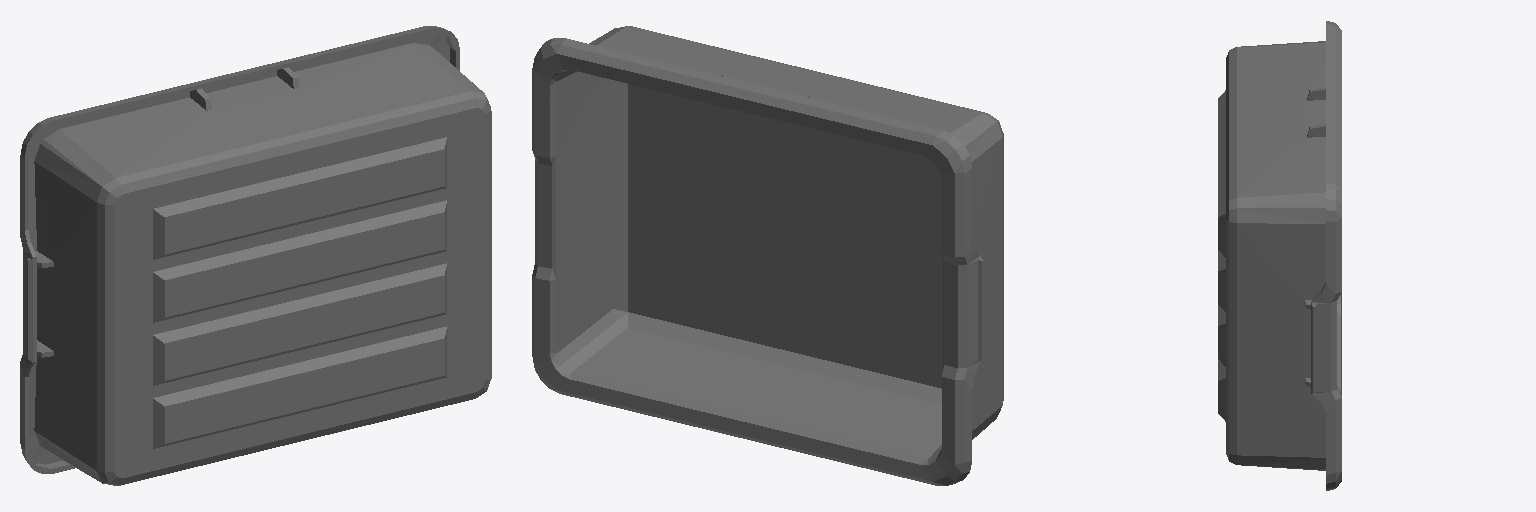
robot.urdf — bus_tub_01_decomp:
<robot xmlns:drake="drake.mit.edu" name="bus_tub_01_decomp">
  <link name="bus_tub_01_decomp_body_link">
    <inertial>
      <origin xyz="4.88E-18 4.98E-02 5.06E-08" rpy="0 0 0"/>
      <mass value="1.00E+00"/>
      <inertia ixx="1.5714E-02" ixy="2.5637E-18" ixz="2.9288E-18" iyy="3.5565E-02" iyz="1.6490E-09" izz="2.3676E-02"/>
    </inertial>
    <visual>
      <origin xyz="0 0 0" rpy="0 0 0"/>
      <geometry>
        <mesh filename="bus_tub_01_decomp_visual.obj" scale="1.0000E+00 1.0000E+00 1.0000E+00"/>
      </geometry>
      <material name="">
        <color rgba="5.00E-01 5.00E-01 5.00E-01 1.00E+00"/>
      </material>
    </visual>
    <collision>
      <origin xyz="0 0 0" rpy="0 0 0"/>
      <geometry>
        <mesh filename="bus_tub_01_decomp_convex_piece_0.obj" scale="1.0000E+00 1.0000E+00 1.0000E+00">
          <drake:declare_convex/>
        </mesh>
      </geometry>
    </collision>
    <collision>
      <origin xyz="0 0 0" rpy="0 0 0"/>
      <geometry>
        <mesh filename="bus_tub_01_decomp_convex_piece_1.obj" scale="1.0000E+00 1.0000E+00 1.0000E+00">
          <drake:declare_convex/>
        </mesh>
      </geometry>
    </collision>
    <collision>
      <origin xyz="0 0 0" rpy="0 0 0"/>
      <geometry>
        <mesh filename="bus_tub_01_decomp_convex_piece_2.obj" scale="1.0000E+00 1.0000E+00 1.0000E+00">
          <drake:declare_convex/>
        </mesh>
      </geometry>
    </collision>
    <collision>
      <origin xyz="0 0 0" rpy="0 0 0"/>
      <geometry>
        <mesh filename="bus_tub_01_decomp_convex_piece_3.obj" scale="1.0000E+00 1.0000E+00 1.0000E+00">
          <drake:declare_convex/>
        </mesh>
      </geometry>
    </collision>
    <collision>
      <origin xyz="0 0 0" rpy="0 0 0"/>
      <geometry>
        <mesh filename="bus_tub_01_decomp_convex_piece_4.obj" scale="1.0000E+00 1.0000E+00 1.0000E+00">
          <drake:declare_convex/>
        </mesh>
      </geometry>
    </collision>
    <collision>
      <origin xyz="0 0 0" rpy="0 0 0"/>
      <geometry>
        <mesh filename="bus_tub_01_decomp_convex_piece_5.obj" scale="1.0000E+00 1.0000E+00 1.0000E+00">
          <drake:declare_convex/>
        </mesh>
      </geometry>
    </collision>
    <collision>
      <origin xyz="0 0 0" rpy="0 0 0"/>
      <geometry>
        <mesh filename="bus_tub_01_decomp_convex_piece_6.obj" scale="1.0000E+00 1.0000E+00 1.0000E+00">
          <drake:declare_convex/>
        </mesh>
      </geometry>
    </collision>
    <collision>
      <origin xyz="0 0 0" rpy="0 0 0"/>
      <geometry>
        <mesh filename="bus_tub_01_decomp_convex_piece_7.obj" scale="1.0000E+00 1.0000E+00 1.0000E+00">
          <drake:declare_convex/>
        </mesh>
      </geometry>
    </collision>
    <collision>
      <origin xyz="0 0 0" rpy="0 0 0"/>
      <geometry>
        <mesh filename="bus_tub_01_decomp_convex_piece_8.obj" scale="1.0000E+00 1.0000E+00 1.0000E+00">
          <drake:declare_convex/>
        </mesh>
      </geometry>
    </collision>
    <collision>
      <origin xyz="0 0 0" rpy="0 0 0"/>
      <geometry>
        <mesh filename="bus_tub_01_decomp_convex_piece_9.obj" scale="1.0000E+00 1.0000E+00 1.0000E+00">
          <drake:declare_convex/>
        </mesh>
      </geometry>
    </collision>
    <collision>
      <origin xyz="0 0 0" rpy="0 0 0"/>
      <geometry>
        <mesh filename="bus_tub_01_decomp_convex_piece_10.obj" scale="1.0000E+00 1.0000E+00 1.0000E+00">
          <drake:declare_convex/>
        </mesh>
      </geometry>
    </collision>
    <collision>
      <origin xyz="0 0 0" rpy="0 0 0"/>
      <geometry>
        <mesh filename="bus_tub_01_decomp_convex_piece_11.obj" scale="1.0000E+00 1.0000E+00 1.0000E+00">
          <drake:declare_convex/>
        </mesh>
      </geometry>
    </collision>
  </link>
</robot>

--- Render facts (derived) ---
3 views of the same robot in one strip: view 1: azimuth 30°, elevation 25°; view 2: azimuth 150°, elevation 25°; view 3: azimuth 270°, elevation 25° (orthographic).
Model bus_tub_01_decomp with 1 links and 0 joints (none), rooted at bus_tub_01_decomp_body_link, posed every joint at zero.
Visible links, largest first — view 1: bus_tub_01_decomp_body_link; view 2: bus_tub_01_decomp_body_link; view 3: bus_tub_01_decomp_body_link.
Link boxes in pixels (x1,y1,x2,y2): bus_tub_01_decomp_body_link: (20, 26, 491, 485); bus_tub_01_decomp_body_link: (532, 26, 1003, 485); bus_tub_01_decomp_body_link: (1218, 21, 1341, 490).
Size in the robot's own frame: 0.487 by 0.1363 by 0.3707 metres.
1 mesh visuals loaded from 1 distinct referenced files (1 OBJ).